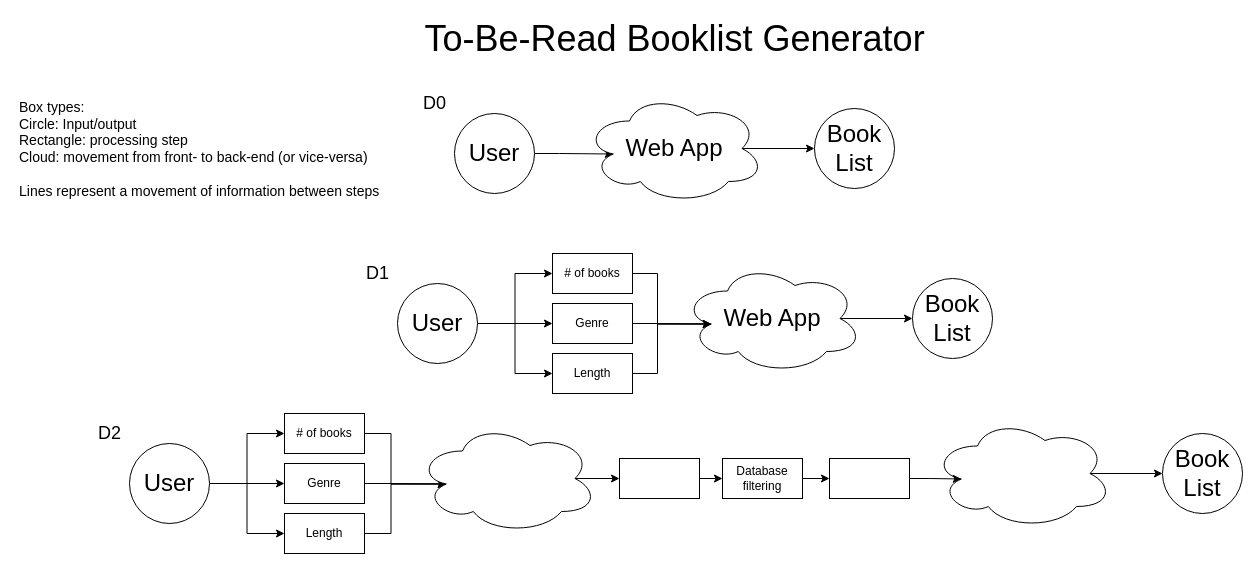
The diagram is 1260 pixels wide and 571 high, and some of its shapes have lost their labels. The shapes that lost their labels are listed below. From the top down, each one's box as (x1, y1, x2, y2) in pixels, then its label:
(416, 422, 598, 534): Web App Input
(618, 458, 700, 498): Database
(828, 458, 910, 498): API/Database return
(932, 418, 1112, 528): Web App Display
